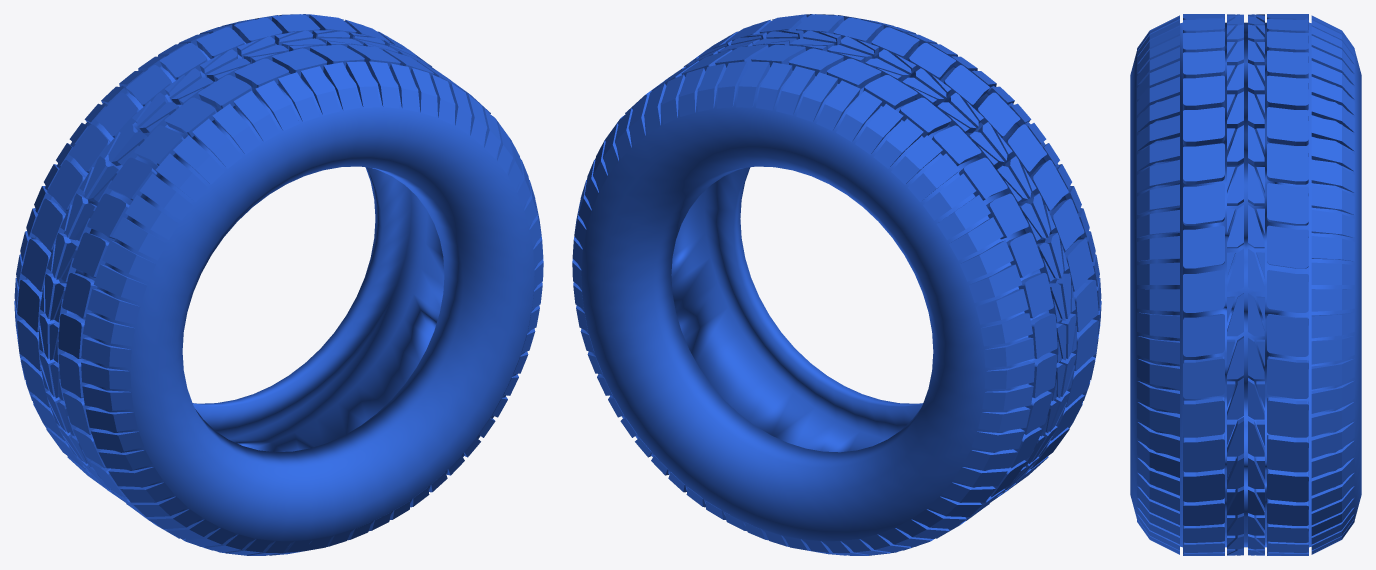
The model's file is Wheel.glb.
3 views of the same model, side by side, from view 1: azimuth 30°, elevation 25°; view 2: azimuth 150°, elevation 25°; view 3: azimuth 270°, elevation 25° (orthographic).
Visible parts, largest first — view 1: Torus Wheel.001, shape - outer outside wedge.004, shape - outer.005, shape - outer.006, shape - inner outside.006, shape - inner outside.004, shape - outer outside wedge.005, shape - inner inside.004, shape - inner inside.005; view 2: Torus Wheel.001, shape - outer outside wedge.005, shape - outer.006, shape - outer.005, shape - inner outside.004, shape - inner outside.006, shape - outer outside wedge.004, shape - inner inside.005, shape - inner inside.004; view 3: Torus Wheel.001, shape - outer.005, shape - outer.006, shape - outer outside wedge.005, shape - outer outside wedge.004, shape - inner outside.004, shape - inner outside.006, shape - inner inside.005, shape - inner inside.004.
Part boxes in pixels (left/top/right/bottom): Torus Wheel.001: left=23, top=42, right=537, bottom=546; shape - outer outside wedge.004: left=81, top=61, right=543, bottom=555; shape - outer.005: left=58, top=44, right=520, bottom=555; shape - outer.006: left=17, top=14, right=424, bottom=489; shape - inner outside.006: left=39, top=30, right=425, bottom=492; shape - inner outside.004: left=49, top=38, right=430, bottom=501; shape - outer outside wedge.005: left=14, top=14, right=377, bottom=428; shape - inner inside.004: left=54, top=41, right=447, bottom=505; shape - inner inside.005: left=39, top=30, right=431, bottom=498; Torus Wheel.001: left=578, top=42, right=1092, bottom=546; shape - outer outside wedge.005: left=572, top=61, right=1034, bottom=555; shape - outer.006: left=595, top=44, right=1057, bottom=555; shape - outer.005: left=691, top=14, right=1098, bottom=489; shape - inner outside.004: left=690, top=30, right=1076, bottom=492; shape - inner outside.006: left=685, top=38, right=1066, bottom=501; shape - outer outside wedge.004: left=738, top=14, right=1101, bottom=428; shape - inner inside.005: left=668, top=41, right=1061, bottom=505; shape - inner inside.004: left=684, top=30, right=1076, bottom=498; Torus Wheel.001: left=1130, top=22, right=1361, bottom=547; shape - outer.005: left=1183, top=14, right=1224, bottom=555; shape - outer.006: left=1267, top=14, right=1308, bottom=555; shape - outer outside wedge.005: left=1311, top=15, right=1354, bottom=554; shape - outer outside wedge.004: left=1137, top=15, right=1179, bottom=554; shape - inner outside.004: left=1227, top=14, right=1243, bottom=555; shape - inner outside.006: left=1248, top=14, right=1264, bottom=555; shape - inner inside.005: left=1256, top=14, right=1264, bottom=555; shape - inner inside.004: left=1227, top=14, right=1235, bottom=555.
Size of the model in its own units: 2.58 by 2.58 by 1.1.
